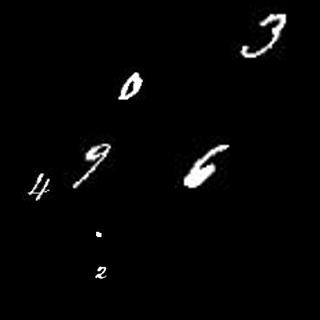dot: (88, 227, 107, 245)
four: (28, 174, 53, 203)
nine: (70, 144, 113, 191)
six: (177, 140, 233, 191)
three: (234, 8, 291, 62)
two: (92, 266, 113, 284)
zero: (116, 70, 151, 102)
